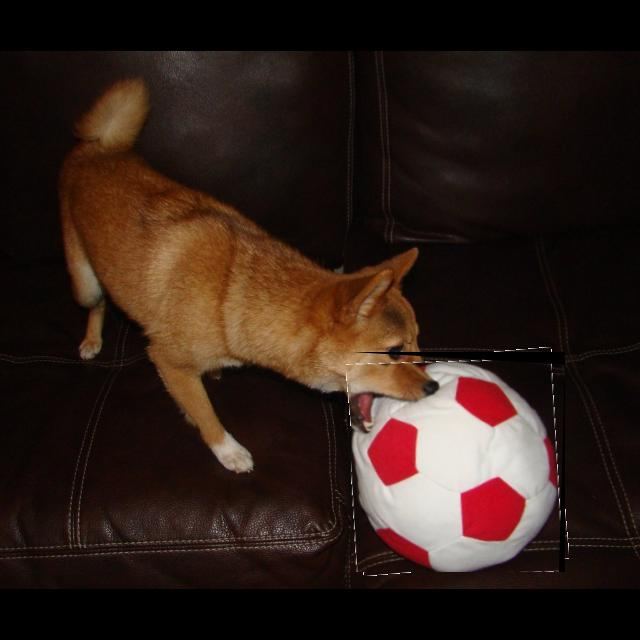Football: (351, 352, 565, 572)
